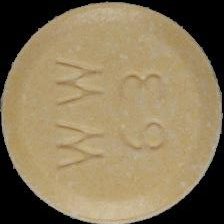43063-065: (0, 0, 224, 224)
